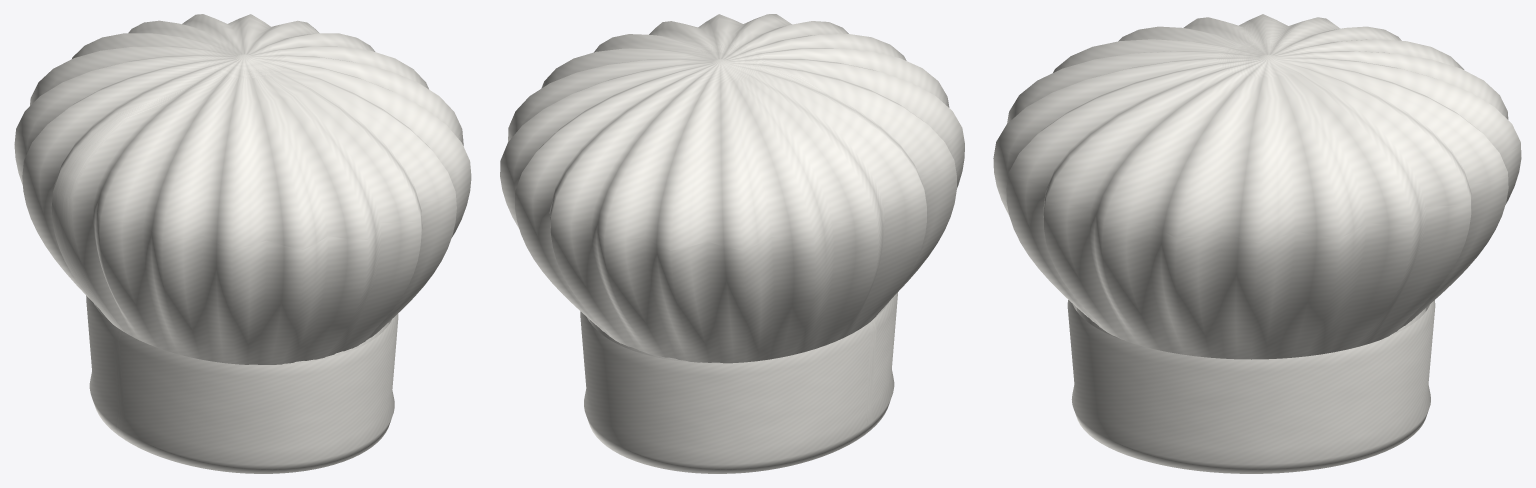
The model's file is hat_chef.glb.
The picture shows the model from 3 angles, left to right: view 1: azimuth 30°, elevation 25°; view 2: azimuth 150°, elevation 25°; view 3: azimuth 270°, elevation 25°; orthographic projection. The views are drawn at different scales.
Parts seen in each view (by area): view 1: hat_chef; view 2: hat_chef; view 3: hat_chef.
Part boxes in pixels (x1,y1,x2,y2): hat_chef: (14,14,471,473); hat_chef: (500,14,964,473); hat_chef: (993,14,1521,473).
Bounding box in the file's own units: 0.304 × 0.26 × 0.3454.
2 materials, 2 textured.
